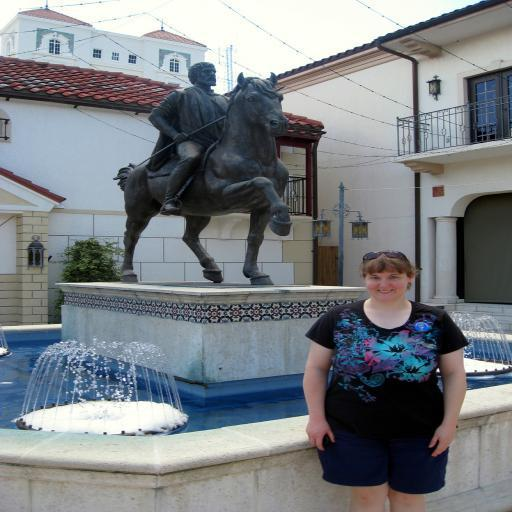horse: (112, 70, 292, 284)
